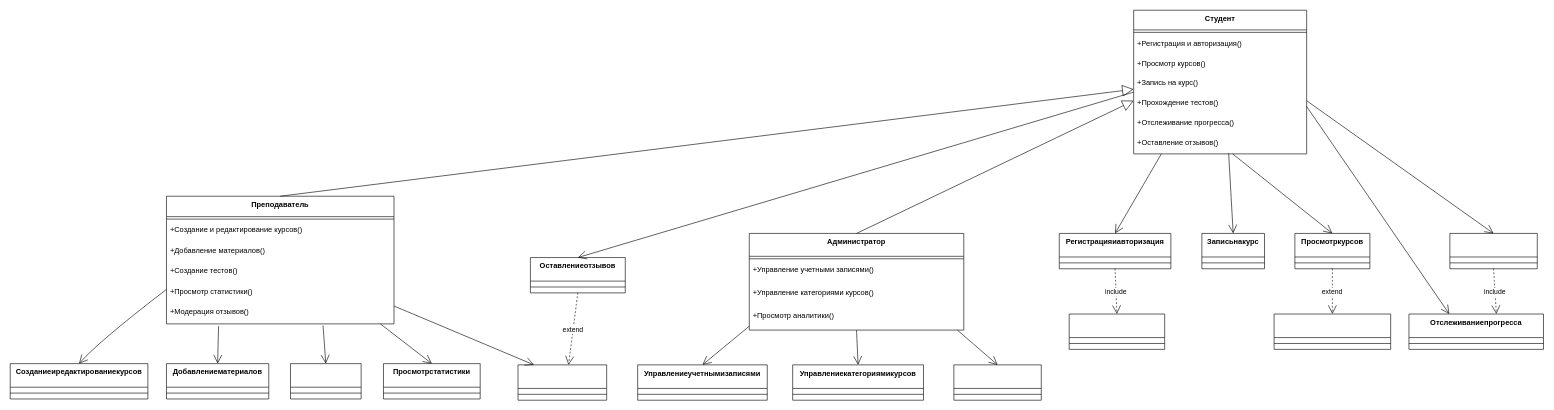
The diagram is 1554 pixels wide and 410 high, and some of its shapes have lost their labels. The centre of each missing label's shape, as x and y in pixels:
"Модерацияотзывов" goes at (562,382).
"Подтверждениепочты" goes at (1117,331).
"Просмотраналитики" goes at (997,382).
"Прохождениетестов" goes at (1493,251).
"Созданиетестов" goes at (325,381).
"Фильтрацияпокатегориям" goes at (1332,331).
